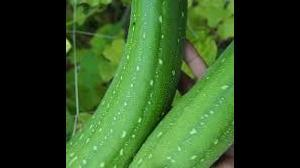sponge gourd: (65, 0, 188, 167), (123, 38, 234, 167)
